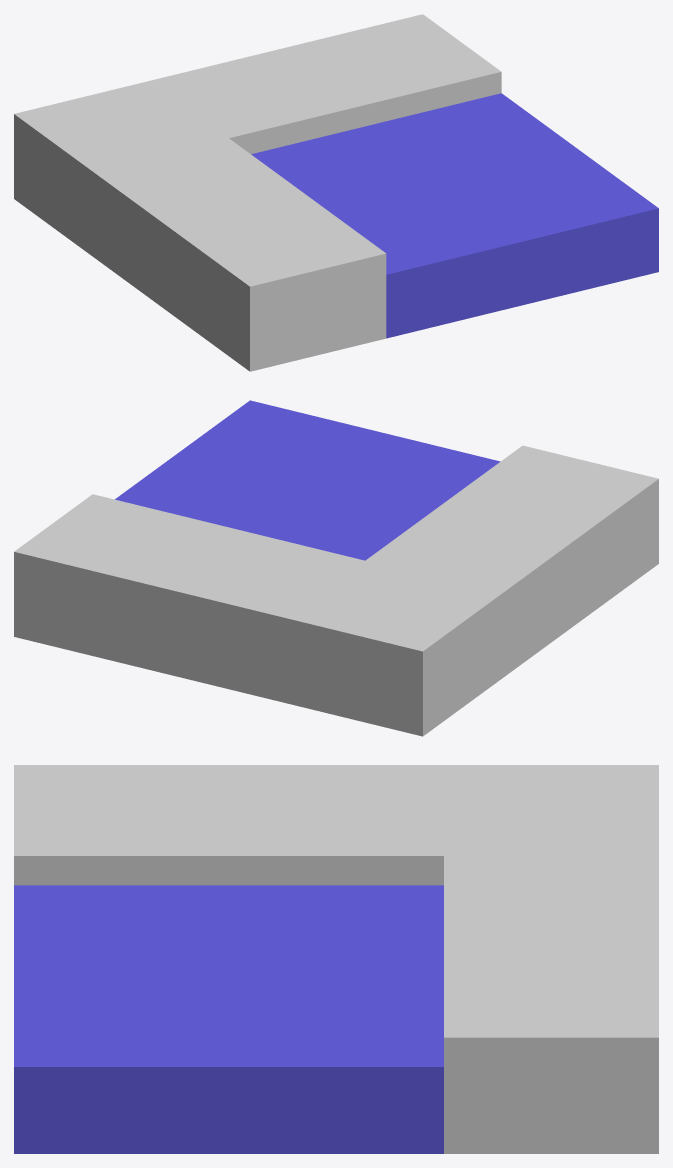
The model's file is LakeCurve.fbx.
The picture shows the model from 3 angles, top to bottom: view 1: azimuth 30°, elevation 25°; view 2: azimuth 150°, elevation 25°; view 3: azimuth 270°, elevation 25°; orthographic projection. The views are drawn at different scales.
Visible parts, largest first — view 1: LakeCurve; view 2: LakeCurve; view 3: LakeCurve.
Part boxes in pixels (x1,y1,x2,y2): LakeCurve: [14, 14, 658, 371]; LakeCurve: [14, 400, 658, 736]; LakeCurve: [14, 765, 658, 1153].
Bounding box in the file's own units: 200 × 200 × 39.76.
